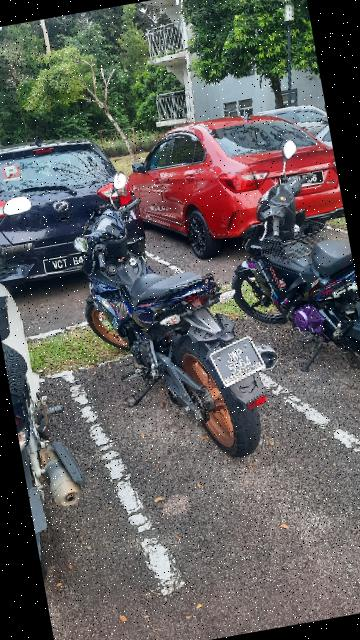License_Plate: (194, 324, 276, 395)
car: (111, 101, 347, 265), (1, 120, 144, 286)
motorcycle: (47, 145, 300, 483), (204, 137, 360, 388), (1, 221, 93, 573)
